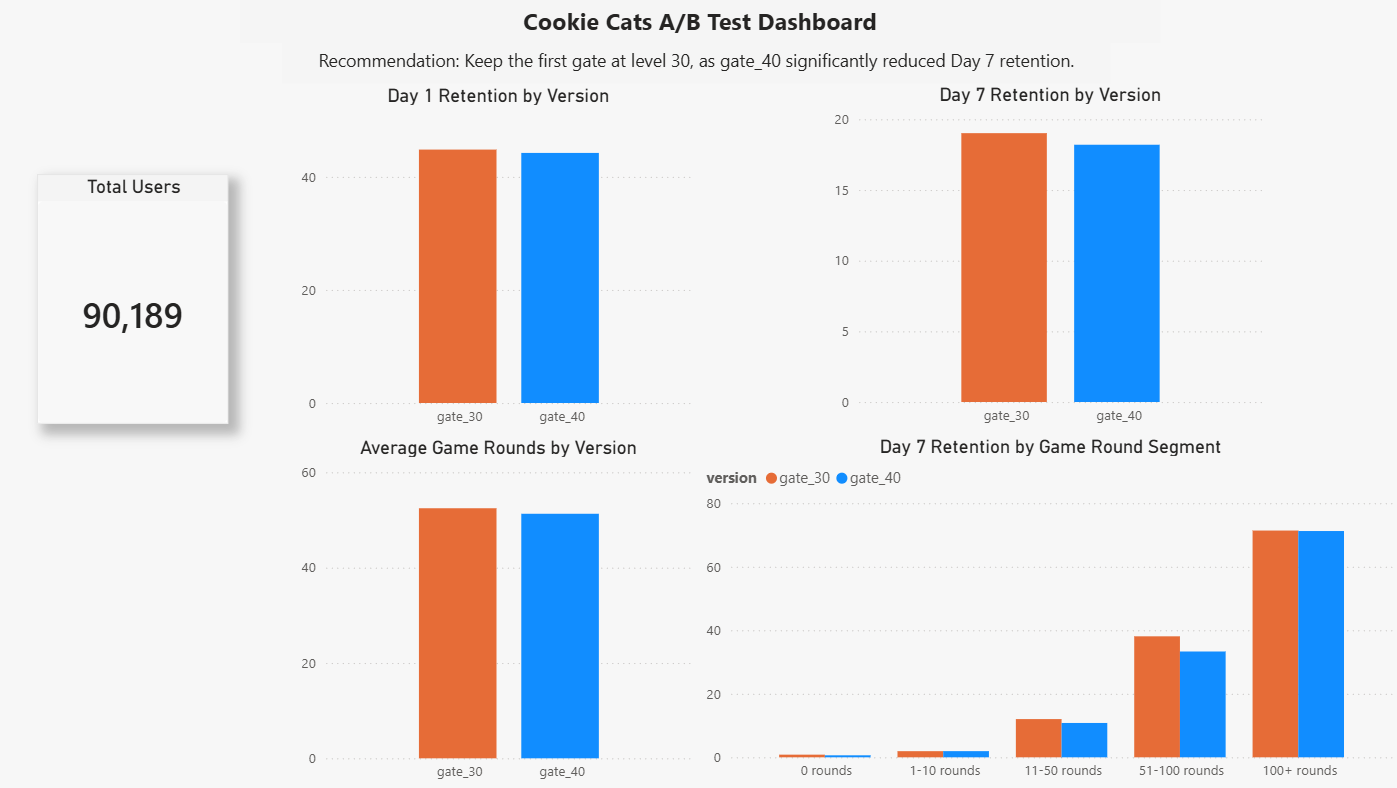

Layout of this report page (visuals, bound fields, positions):
{"tool":"powerbi","page":{"name":"第 1 页","canvas":[1280,720],"ordinal":0},"visuals":[{"type":"clusteredColumnChart","title":"Day 7 Retention by Version","fields":{"Category":["sql_version_metrics.version"],"Y":["Sum(sql_version_metrics.retention_7_rate)"]},"box":[761.1,76.7,402.2,320],"z":0},{"type":"clusteredColumnChart","title":"Day 1 Retention by Version","fields":{"Category":["sql_version_metrics.version"],"Y":["Sum(sql_version_metrics.retention_1_rate)"]},"box":[276,77,368,320],"z":1000},{"type":"clusteredColumnChart","title":"Average Game Rounds by Version","fields":{"Category":["sql_version_metrics.version"],"Y":["Sum(sql_version_metrics.avg_gamerounds)"]},"box":[276,397,368,323],"z":2000},{"type":"cardVisual","title":"Total Users","fields":{"Data":["Sum(sql_version_metrics.users)"]},"box":[41,159,174,227],"z":2001},{"type":"clusteredColumnChart","title":"Day 7 Retention by Game Round Segment","fields":{"Category":["sql_segment_metrics.gameround_segment"],"Y":["Sum(sql_segment_metrics.retention_7_rate)"],"Series":["sql_segment_metrics.version"]},"box":[644.4,396.7,635.6,323.3],"z":2002},{"type":"textbox","box":[263.3,40,753.3,36.7],"z":2003},{"type":"textbox","box":[225.6,0,836.7,40],"z":2004}]}

Visuals, with their boxes in screenshot pixels (x1, y1, x2, y2), scaled from the page's 1280x720 canvas onto the 1397x788 screenshot:
"Day 7 Retention by Version" clusteredColumnChart: detection(831, 84, 1270, 434)
"Day 1 Retention by Version" clusteredColumnChart: detection(301, 84, 703, 434)
"Average Game Rounds by Version" clusteredColumnChart: detection(301, 434, 703, 787)
"Total Users" cardVisual: detection(45, 174, 235, 422)
"Day 7 Retention by Game Round Segment" clusteredColumnChart: detection(703, 434, 1396, 787)
textbox: detection(287, 44, 1110, 84)
textbox: detection(246, 0, 1159, 44)
